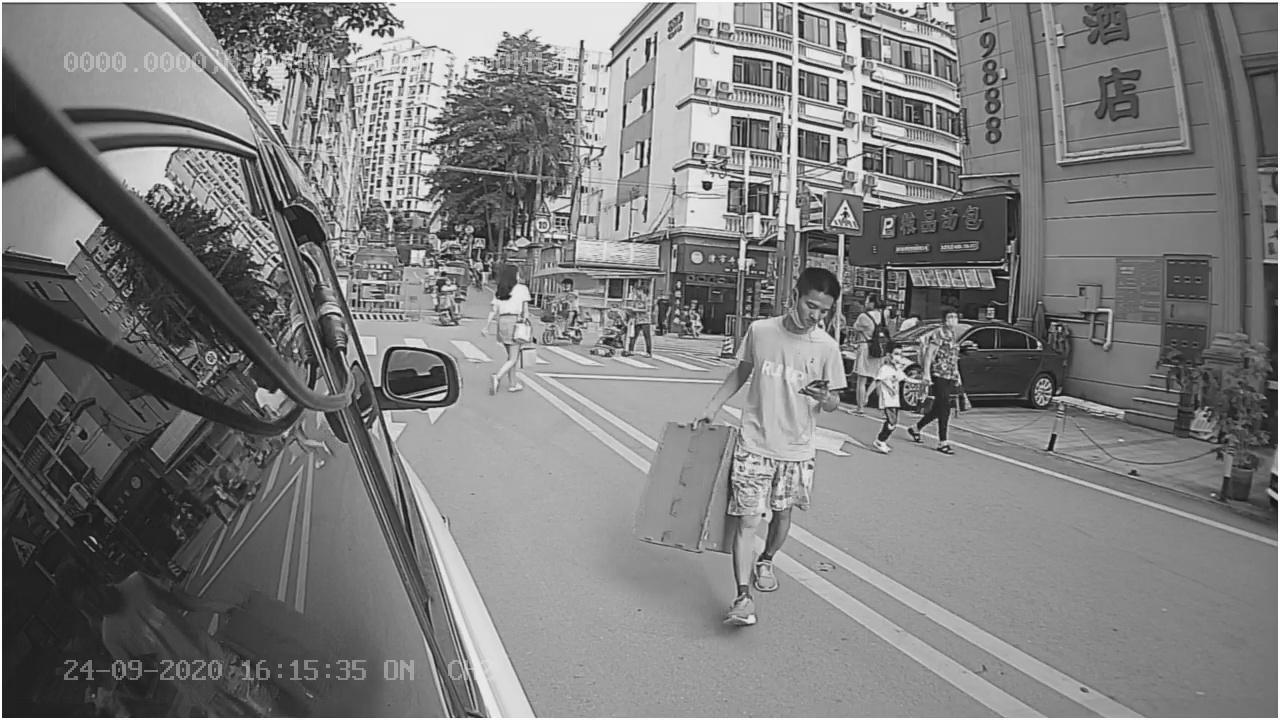person: (680, 267, 849, 641), (461, 255, 550, 405)
